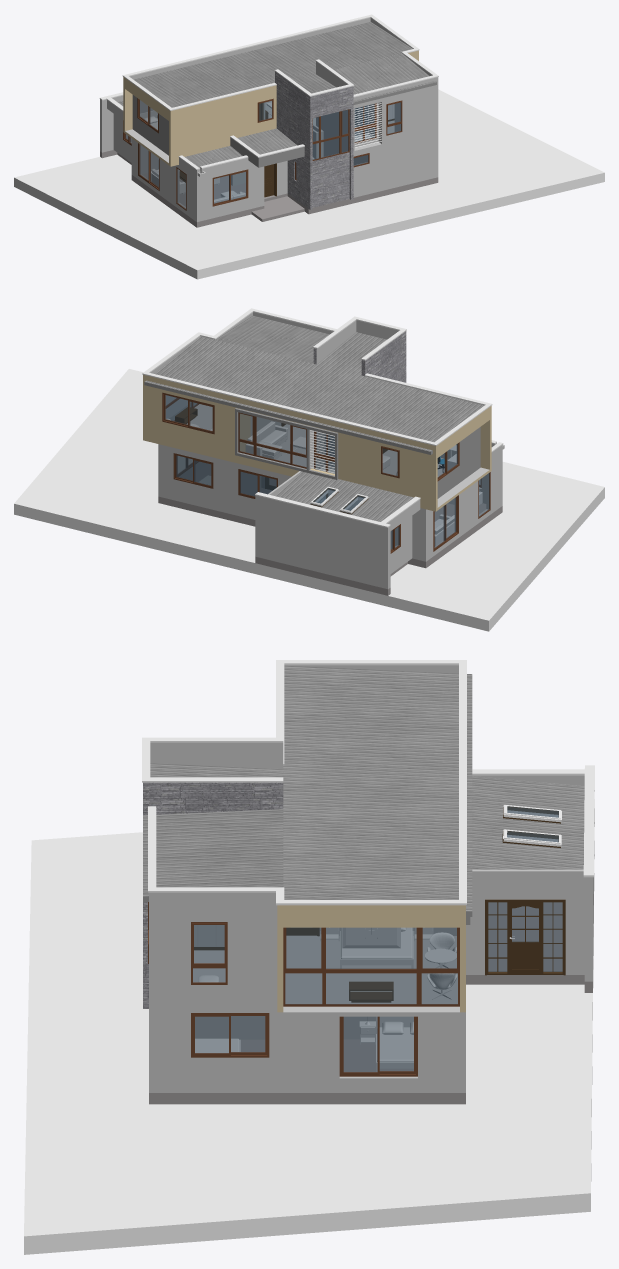
The model's file is moderna.glb.
3 views of the same model, one above another, from view 1: azimuth 30°, elevation 25°; view 2: azimuth 150°, elevation 25°; view 3: azimuth 270°, elevation 25° (orthographic). The views are drawn at different scales.
Visible parts, largest first — view 1: moderna; view 2: moderna; view 3: moderna.
Part boxes in pixels (left/top/right/bottom): moderna: left=14, top=14, right=604, bottom=279; moderna: left=14, top=308, right=604, bottom=631; moderna: left=24, top=660, right=594, bottom=1254.
Size of the model in its own units: 25.31 by 6.97 by 13.97.
32 materials, 2 textured.
